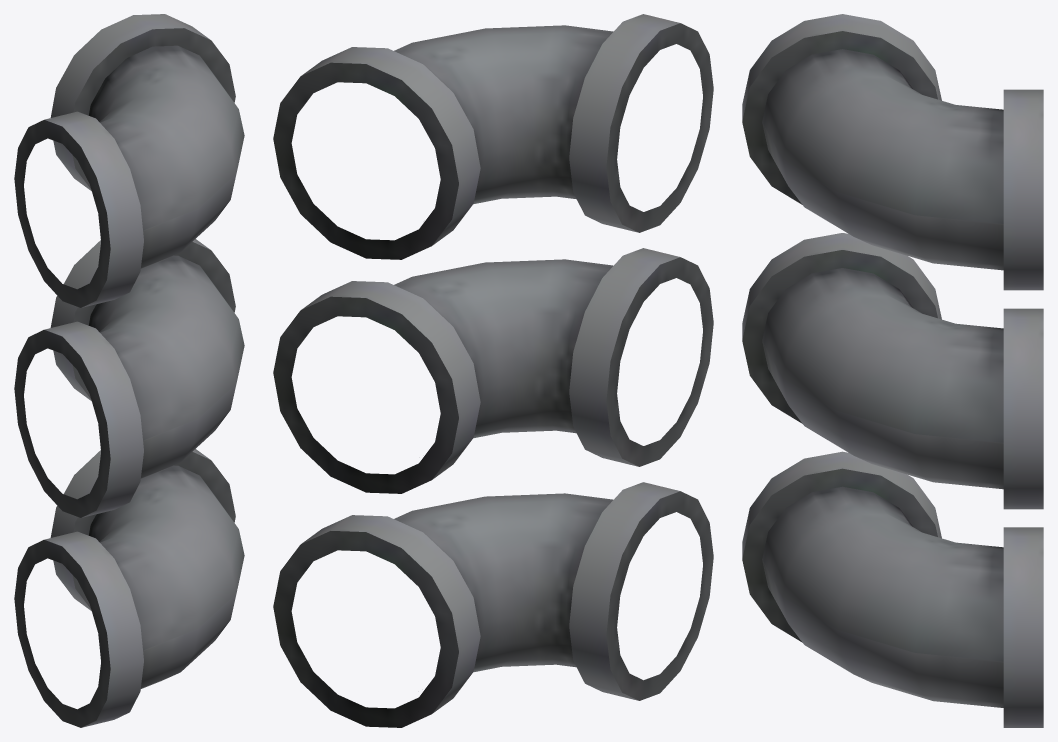
3 renders of one model, left to right at view 1: azimuth 30°, elevation 25°; view 2: azimuth 150°, elevation 25°; view 3: azimuth 270°, elevation 25°, orthographic. The views are drawn at different scales.
Visible parts, largest first — view 1: body0_model0_lod0_mesh0; view 2: body0_model0_lod0_mesh0; view 3: body0_model0_lod0_mesh0.
Boxes of the visible parts, box(x1,y1,x2,y2) form: body0_model0_lod0_mesh0: box(14, 14, 244, 727); body0_model0_lod0_mesh0: box(273, 14, 713, 727); body0_model0_lod0_mesh0: box(742, 14, 1043, 727).
Bounding box in the file's own units: 14.99 × 33.98 × 14.99.
Materials: 1 (1 with a texture image).
